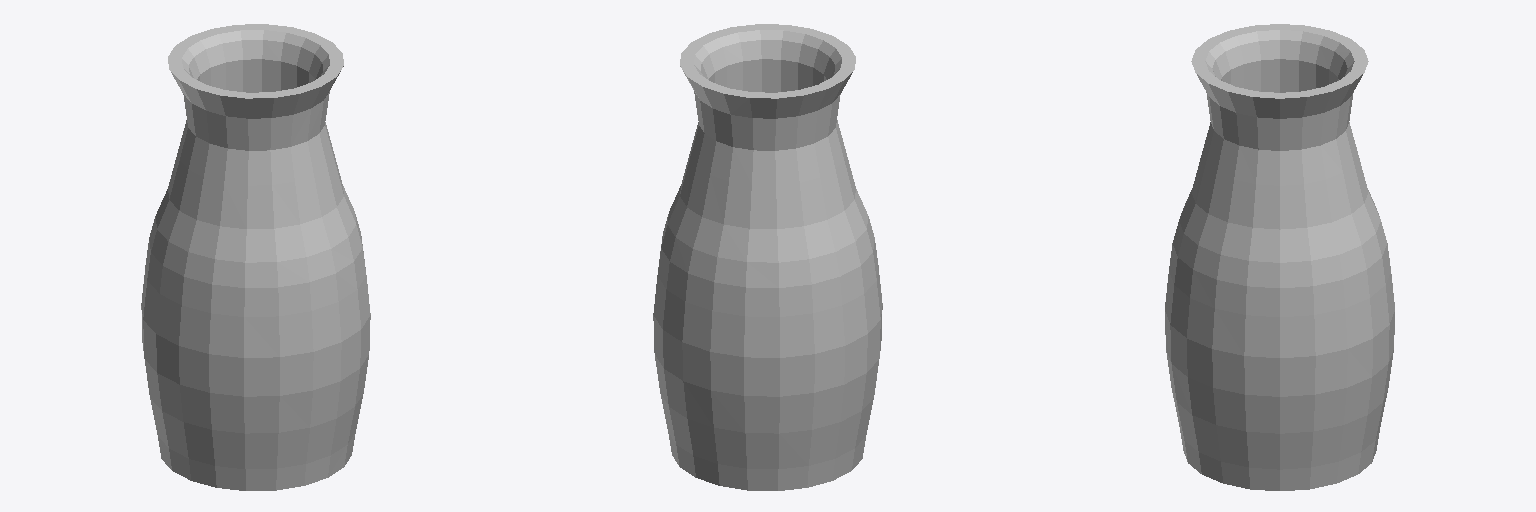
Rendered from VASO.obj.
3 views of the same model, side by side, from view 1: azimuth 30°, elevation 25°; view 2: azimuth 150°, elevation 25°; view 3: azimuth 270°, elevation 25° (orthographic).
Visible parts, largest first — view 1: VASO; view 2: VASO; view 3: VASO.
Part boxes in pixels (bbox=[...]): VASO: bbox=[141, 24, 370, 490]; VASO: bbox=[653, 24, 882, 490]; VASO: bbox=[1165, 24, 1394, 490].
Bounding box in the file's own units: 0.2997 × 0.558 × 0.2996.